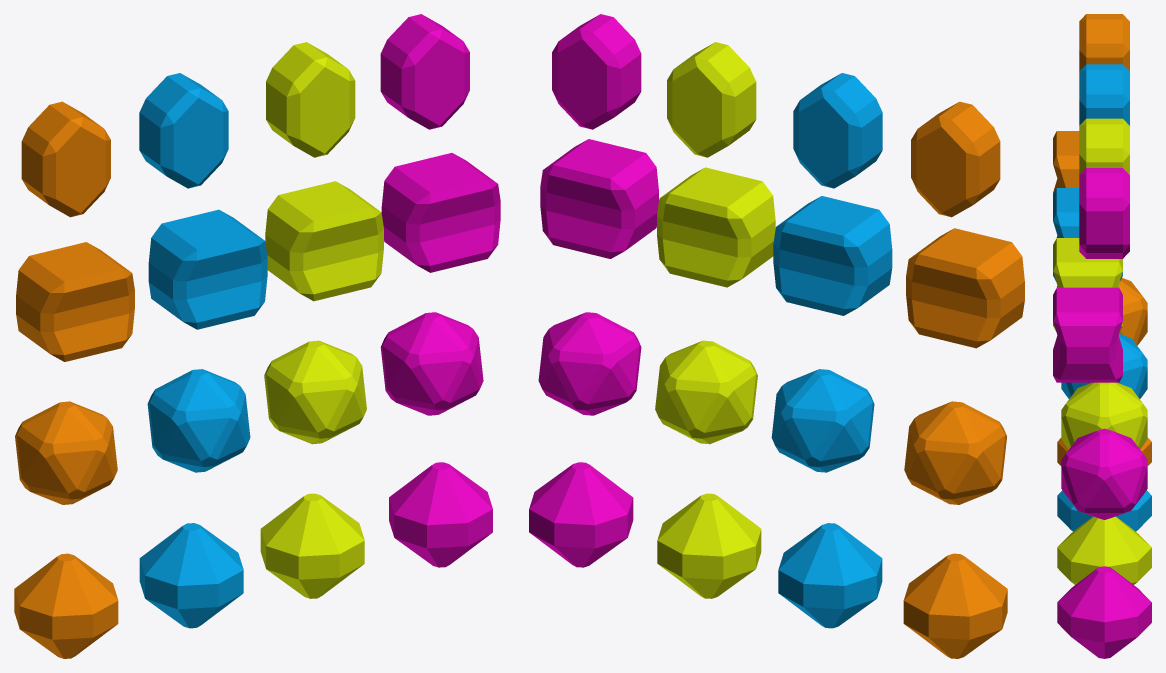
3 views of the same model, side by side, from view 1: azimuth 30°, elevation 25°; view 2: azimuth 150°, elevation 25°; view 3: azimuth 270°, elevation 25° (orthographic). The views are drawn at different scales.
Visible parts, largest first — view 1: Cube.026, Cube.025, Cube.028, Cube.027, Icosphere.002, Icosphere, Icosphere.003, Icosphere.001, Cube.024, Cube.022, Cube.023, Cube.006 (+4 smaller); view 2: Cube.026, Cube.025, Cube.028, Cube.027, Icosphere.003, Icosphere, Icosphere.001, Icosphere.002, Cube.022, Cube.006, Cube.023, Cube.024 (+4 smaller); view 3: Cube.028, Icosphere.003, Cylinder.191, Cylinder.190, Cube.024, Icosphere.002, Cube.022, Cube.006, Cube.027, Cube.023, Icosphere.001, Cube.025 (+4 smaller).
Boxes of the visible parts, x1,y1,x2,y2 form: Cube.026: [148, 209, 267, 329]; Cube.025: [16, 242, 134, 361]; Cube.028: [381, 153, 500, 272]; Cube.027: [265, 181, 383, 301]; Icosphere.002: [264, 340, 366, 444]; Icosphere: [15, 401, 117, 504]; Icosphere.003: [380, 312, 483, 415]; Icosphere.001: [147, 369, 250, 472]; Cube.024: [380, 14, 469, 129]; Cube.022: [139, 73, 228, 188]; Cube.023: [266, 42, 355, 157]; Cube.006: [21, 101, 110, 217]; Cube.026: [773, 196, 892, 315]; Cube.025: [906, 228, 1024, 348]; Cube.028: [540, 139, 658, 258]; Cube.027: [657, 167, 775, 287]; Icosphere.003: [538, 312, 641, 415]; Icosphere: [904, 401, 1006, 504]; Icosphere.001: [771, 369, 874, 472]; Icosphere.002: [655, 340, 757, 444]; Cube.022: [793, 73, 882, 188]; Cube.006: [911, 101, 1000, 217]; Cube.023: [667, 42, 756, 157]; Cube.024: [552, 14, 641, 129]; Cube.028: [1053, 287, 1122, 382]; Icosphere.003: [1061, 428, 1147, 519]; Cylinder.191: [1057, 566, 1151, 658]; Cylinder.190: [1057, 516, 1151, 584]; Cube.024: [1079, 168, 1129, 258]; Icosphere.002: [1061, 382, 1147, 448]; Cube.022: [1079, 64, 1129, 125]; Cube.006: [1079, 14, 1129, 71]; Cube.027: [1053, 238, 1122, 330]; Cube.023: [1079, 118, 1129, 174]; Icosphere.001: [1061, 333, 1147, 398]; Cube.025: [1053, 131, 1079, 194].
Size of the model in its own units: 1.77 by 1.96 by 0.3668.
